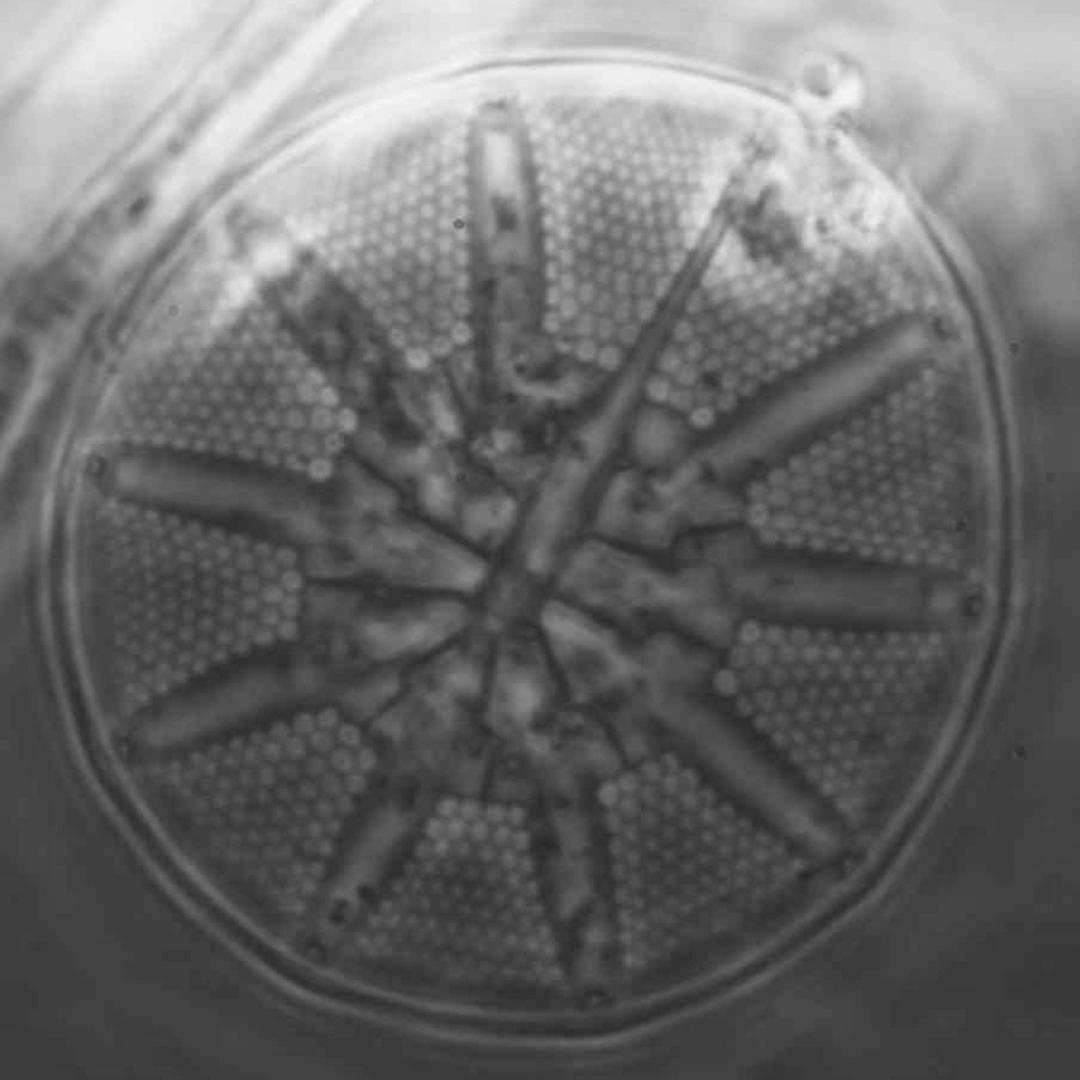asteromphalus_hyalinus: (47, 57, 1003, 1041)
